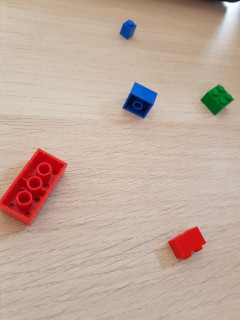1x1 blue: (119, 19, 137, 42)
1x2 red: (166, 226, 206, 261)
2x2 blue: (122, 81, 158, 118)
2x2 green: (201, 84, 234, 116)
2x4 red: (1, 142, 69, 227)
